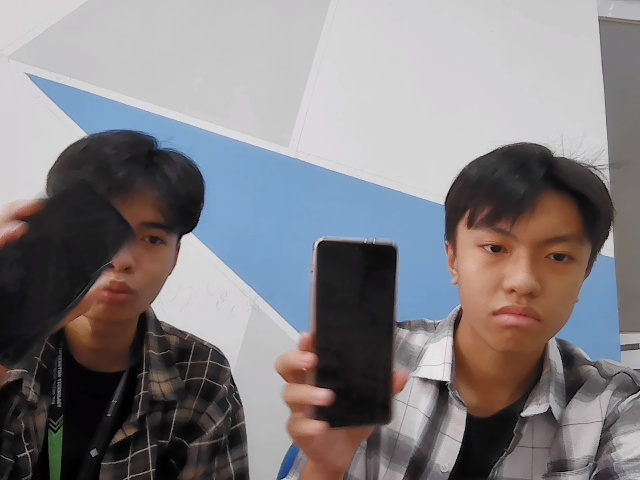human: (451, 148, 598, 345)
phone: (2, 184, 131, 366), (310, 237, 395, 426)
